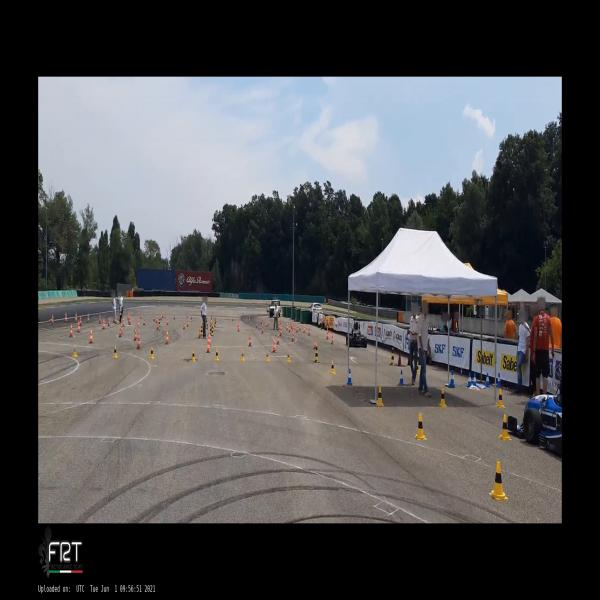blue_cone: (399, 370, 404, 385), (450, 370, 454, 387), (467, 372, 471, 387), (348, 369, 352, 384), (497, 373, 501, 386), (486, 373, 490, 386), (473, 373, 476, 385)
large_orange_cone: (136, 334, 142, 350), (88, 329, 94, 344), (206, 337, 211, 353), (272, 337, 277, 353), (164, 330, 169, 344), (102, 316, 106, 330), (330, 331, 334, 345), (69, 324, 73, 337), (118, 325, 122, 338), (248, 334, 252, 346), (74, 311, 78, 323), (64, 311, 68, 322), (198, 325, 201, 339), (107, 316, 111, 326), (313, 335, 316, 348), (326, 328, 329, 340), (79, 314, 82, 326), (134, 329, 137, 341), (292, 330, 295, 342), (51, 314, 54, 325), (308, 325, 311, 336), (166, 316, 169, 326), (128, 315, 131, 325), (277, 334, 280, 344), (303, 323, 306, 333), (122, 318, 125, 327), (143, 317, 146, 326), (78, 320, 80, 332), (99, 313, 101, 324), (280, 325, 282, 336), (288, 325, 291, 332), (261, 323, 263, 333), (87, 313, 89, 323), (138, 318, 140, 328), (238, 322, 240, 332), (115, 315, 117, 324), (183, 321, 185, 330), (187, 318, 189, 327), (296, 324, 298, 333), (300, 322, 302, 331), (153, 314, 155, 322), (190, 314, 192, 322), (266, 320, 268, 328), (286, 323, 288, 331), (157, 322, 159, 329), (256, 321, 258, 328), (162, 312, 164, 318), (156, 315, 157, 323), (249, 315, 250, 322), (161, 314, 162, 320)
unknown_cone: (314, 345, 320, 362), (390, 347, 395, 365), (397, 354, 402, 366), (211, 324, 214, 337), (201, 326, 203, 336), (158, 318, 160, 327), (215, 317, 217, 326), (214, 320, 216, 327)
yellow_cone: (489, 462, 508, 499), (498, 414, 512, 441), (414, 414, 428, 439), (438, 387, 448, 407), (496, 389, 505, 408), (377, 387, 384, 406), (112, 345, 118, 358), (72, 345, 78, 356), (330, 361, 335, 374), (286, 350, 291, 362), (240, 350, 245, 362), (191, 350, 196, 362), (266, 350, 270, 362), (150, 347, 154, 359), (215, 349, 219, 360), (417, 362, 419, 373)
